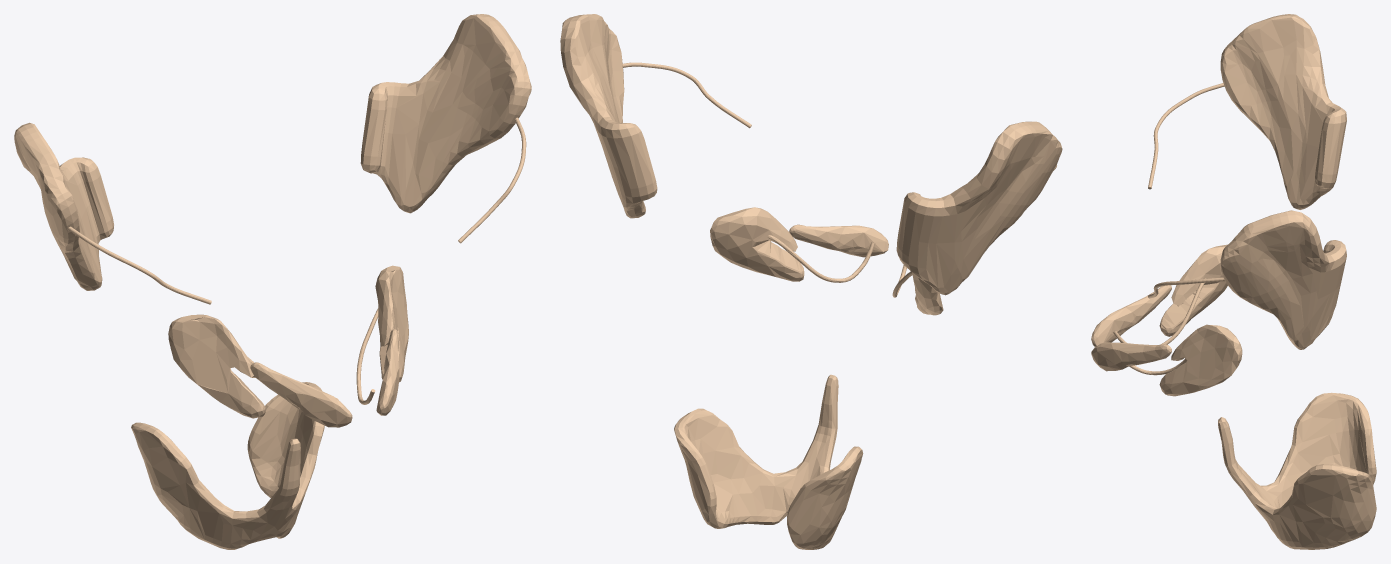
The model's file is glandulas.glb.
3 views of the same model, side by side, from view 1: azimuth 30°, elevation 25°; view 2: azimuth 150°, elevation 25°; view 3: azimuth 270°, elevation 25° (orthographic). The views are drawn at different scales.
Visible parts, largest first — view 1: parotid_gland_E, thyroid_gland, parotid_gland_D, FMA59802_D, FMA59804_D, FMA59803_E, FMA59805_E, parotid_duct_D, parotid_duct_E; view 2: thyroid_gland, parotid_gland_D, parotid_gland_E, FMA59803_E, FMA59805_E, FMA59802_D, parotid_duct_E, submandibular_duct_E; view 3: thyroid_gland, parotid_gland_D, parotid_gland_E, FMA59803_E, FMA59802_D, FMA59805_E, FMA59804_D, parotid_duct_D, submandibular_duct_D, parotid_duct_E.
Part boxes in pixels (<box>): parotid_gland_E: <box>360,14,531,213</box>; thyroid_gland: <box>131,382,324,549</box>; parotid_gland_D: <box>14,122,113,290</box>; FMA59802_D: <box>168,314,265,418</box>; FMA59804_D: <box>250,362,352,427</box>; FMA59803_E: <box>375,265,408,382</box>; FMA59805_E: <box>376,329,399,415</box>; parotid_duct_D: <box>67,226,211,304</box>; parotid_duct_E: <box>458,117,526,243</box>; thyroid_gland: <box>674,374,863,549</box>; parotid_gland_D: <box>896,121,1062,295</box>; parotid_gland_E: <box>560,14,657,218</box>; FMA59803_E: <box>710,207,804,281</box>; FMA59805_E: <box>789,224,888,257</box>; FMA59802_D: <box>912,273,943,315</box>; parotid_duct_E: <box>622,62,751,128</box>; submandibular_duct_E: <box>767,235,874,282</box>; thyroid_gland: <box>1218,392,1376,549</box>; parotid_gland_D: <box>1220,14,1346,209</box>; parotid_gland_E: <box>1220,210,1346,349</box>; FMA59803_E: <box>1159,324,1242,396</box>; FMA59802_D: <box>1159,244,1227,336</box>; FMA59805_E: <box>1091,342,1171,371</box>; FMA59804_D: <box>1091,285,1171,346</box>; parotid_duct_D: <box>1148,83,1224,189</box>; submandibular_duct_D: <box>1112,278,1205,344</box>; parotid_duct_E: <box>1148,277,1224,298</box>.
Bounding box in the file's own units: 0.13 × 0.1219 × 0.0748.
